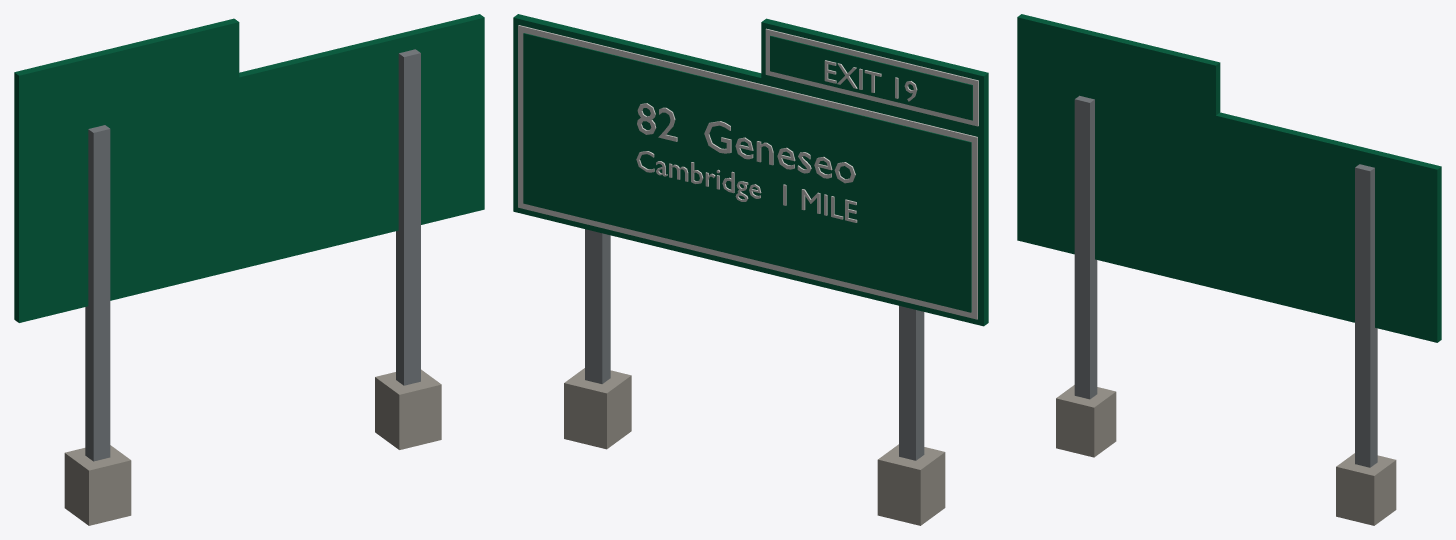
Rendered from exit19e.glb.
3 views of the same model, side by side, from view 1: azimuth 30°, elevation 25°; view 2: azimuth 150°, elevation 25°; view 3: azimuth 330°, elevation 25° (orthographic). The views are drawn at different scales.
Visible parts, largest first — view 1: exit19e_lod0; view 2: exit19e_lod0; view 3: exit19e_lod0.
Part boxes in pixels (box(x1,y1,x2,y2)): exit19e_lod0: box(14, 14, 484, 525); exit19e_lod0: box(513, 14, 988, 525); exit19e_lod0: box(1017, 14, 1441, 525).
Size of what is drawn, in the model's own units: 6.6 by 6.15 by 0.6.
